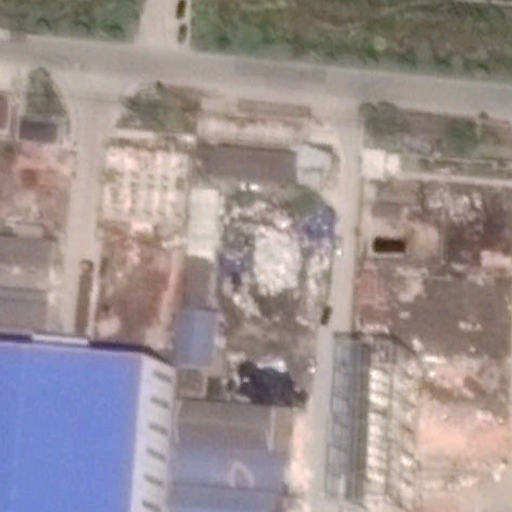msw: (215, 177, 332, 398)
